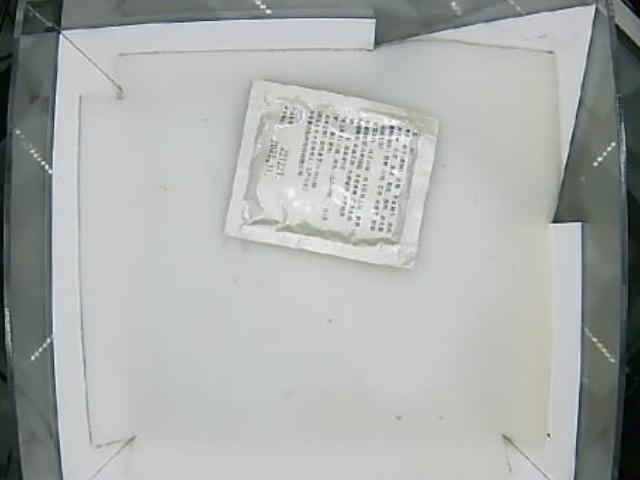Medicine: (225, 79, 440, 267)
